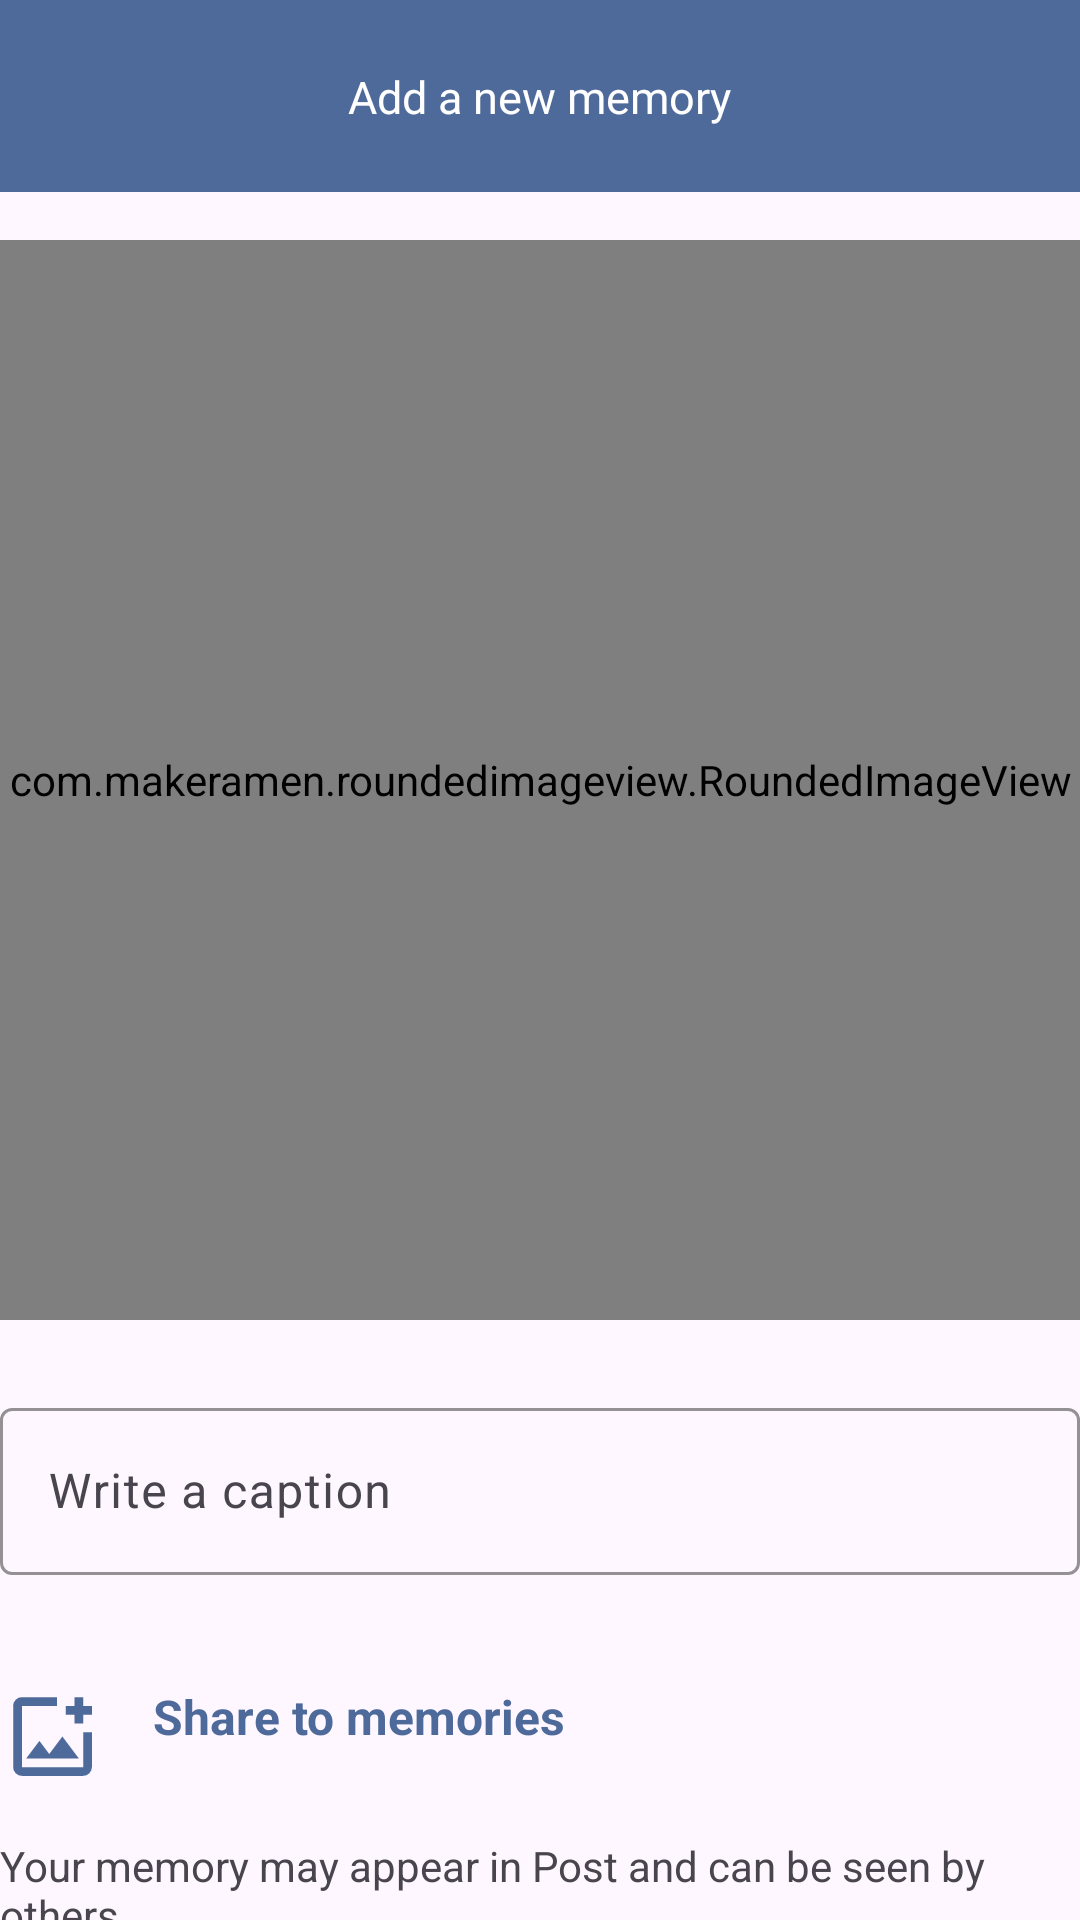

Icons on this 1080x1920 Android screen, each with the point to tap as point (x, y):
add photo alternate: point (52, 1736)
